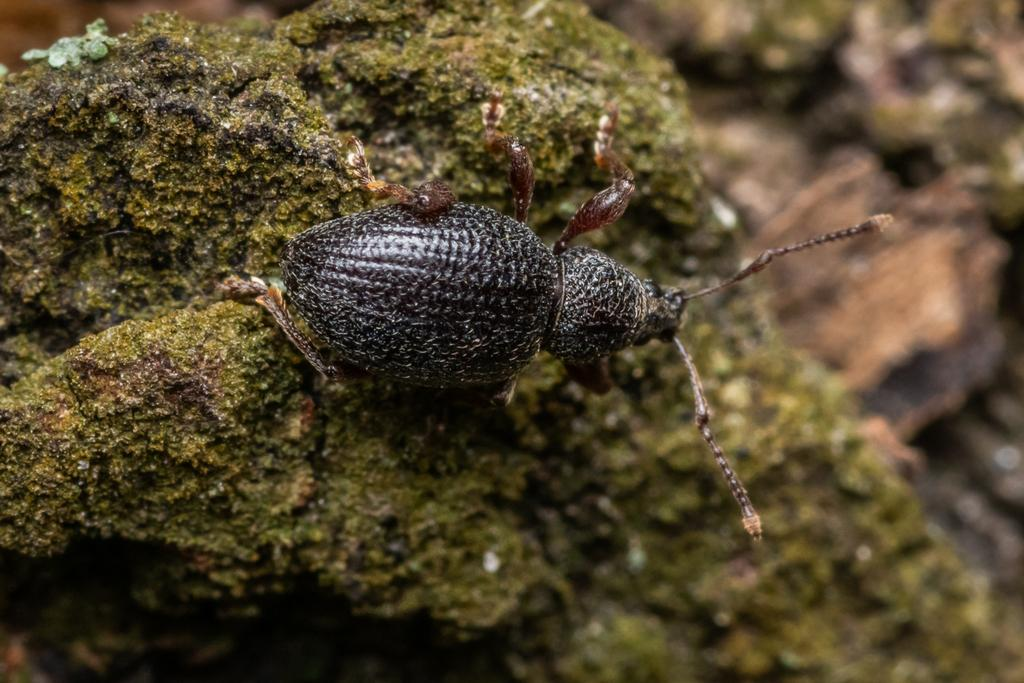weevils: (180, 23, 938, 610)
